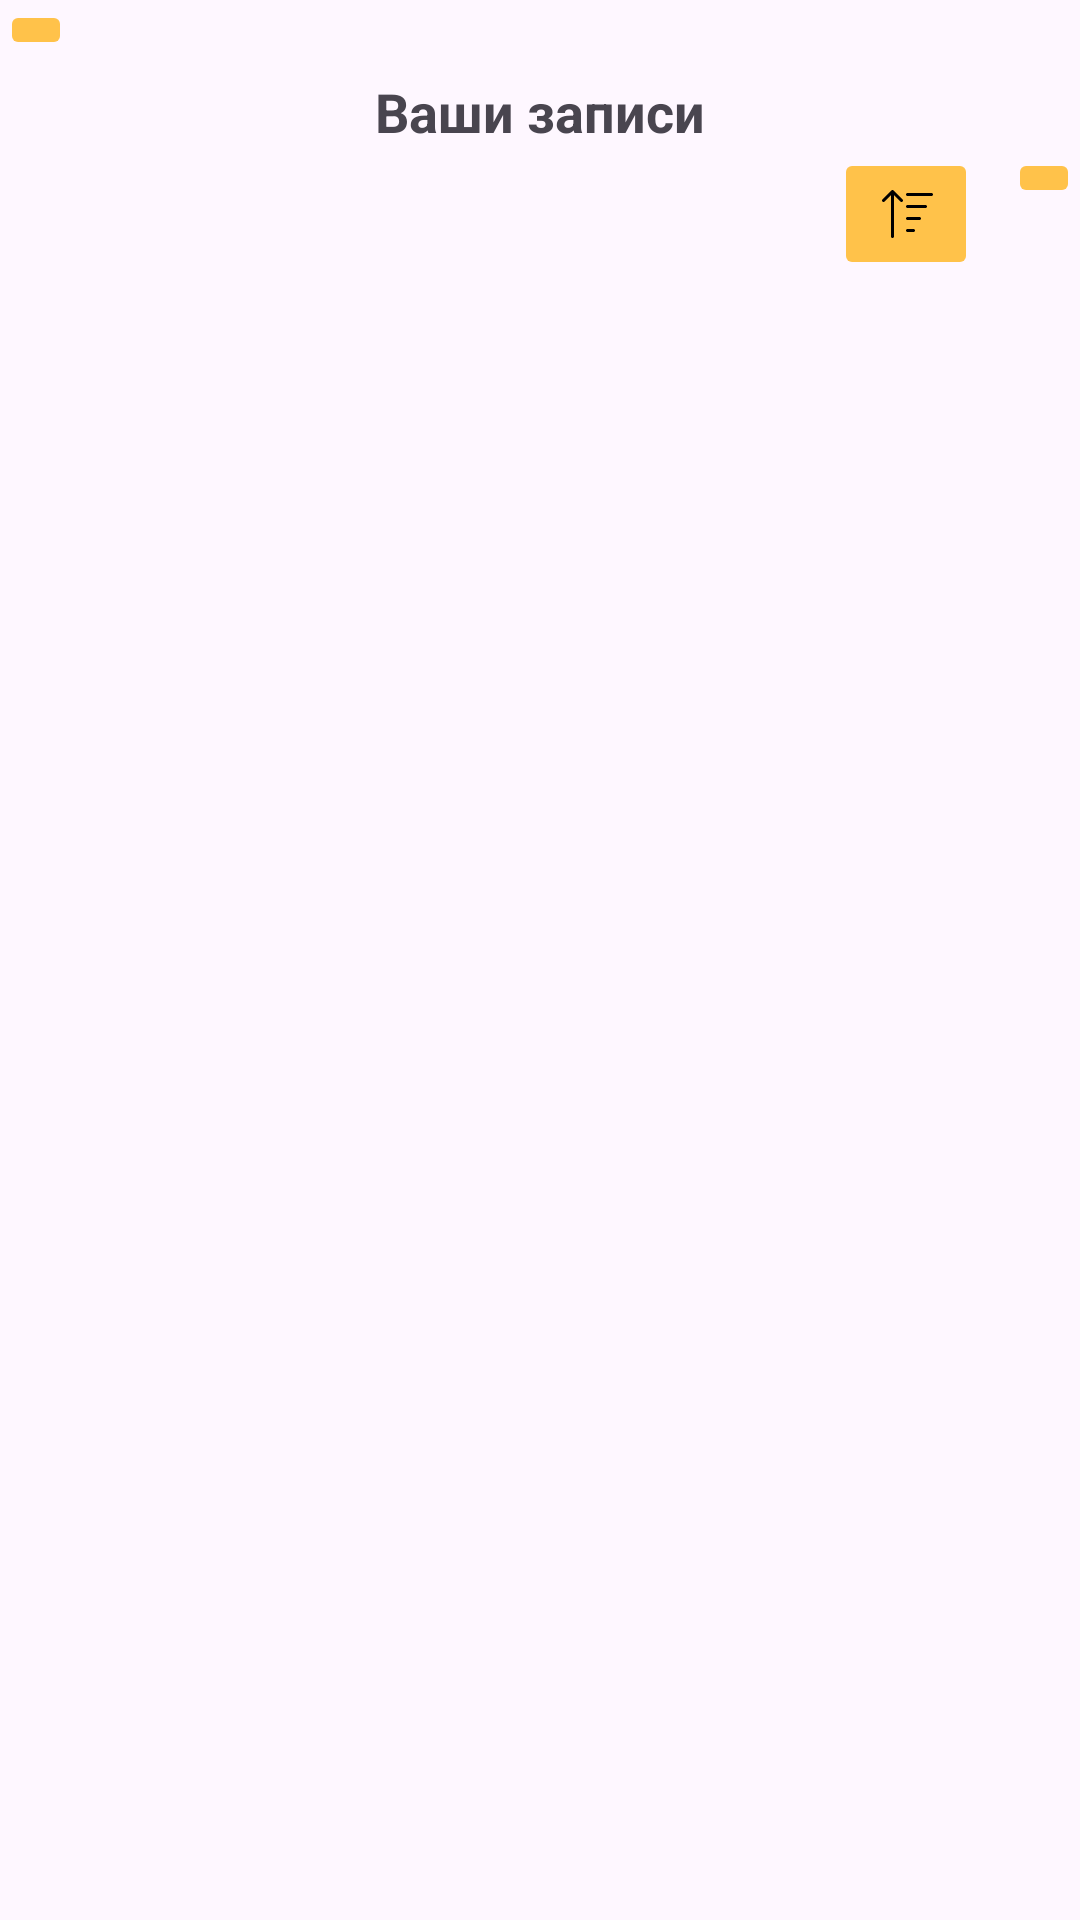

Icon click points for this 1080w x 1920h phone screenshot, format [x,y]:
sort up: [906,214]
